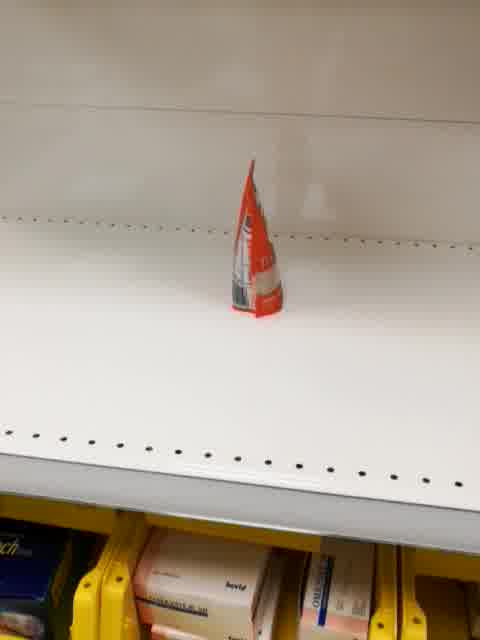whitechia: (225, 155, 287, 318)
